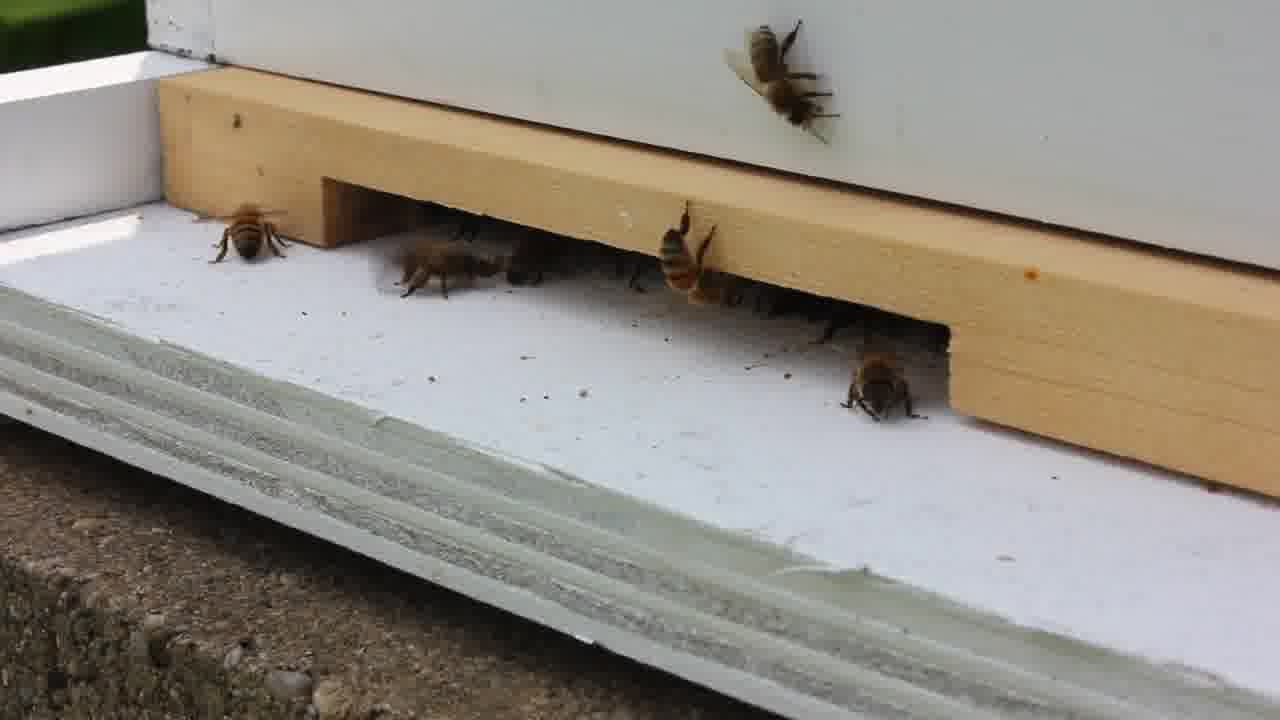pollen: (365, 240, 503, 302)
